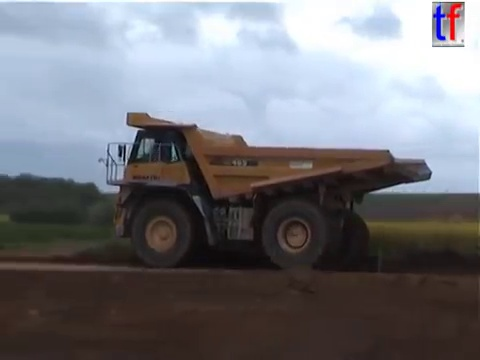truck: (96, 109, 435, 273)
